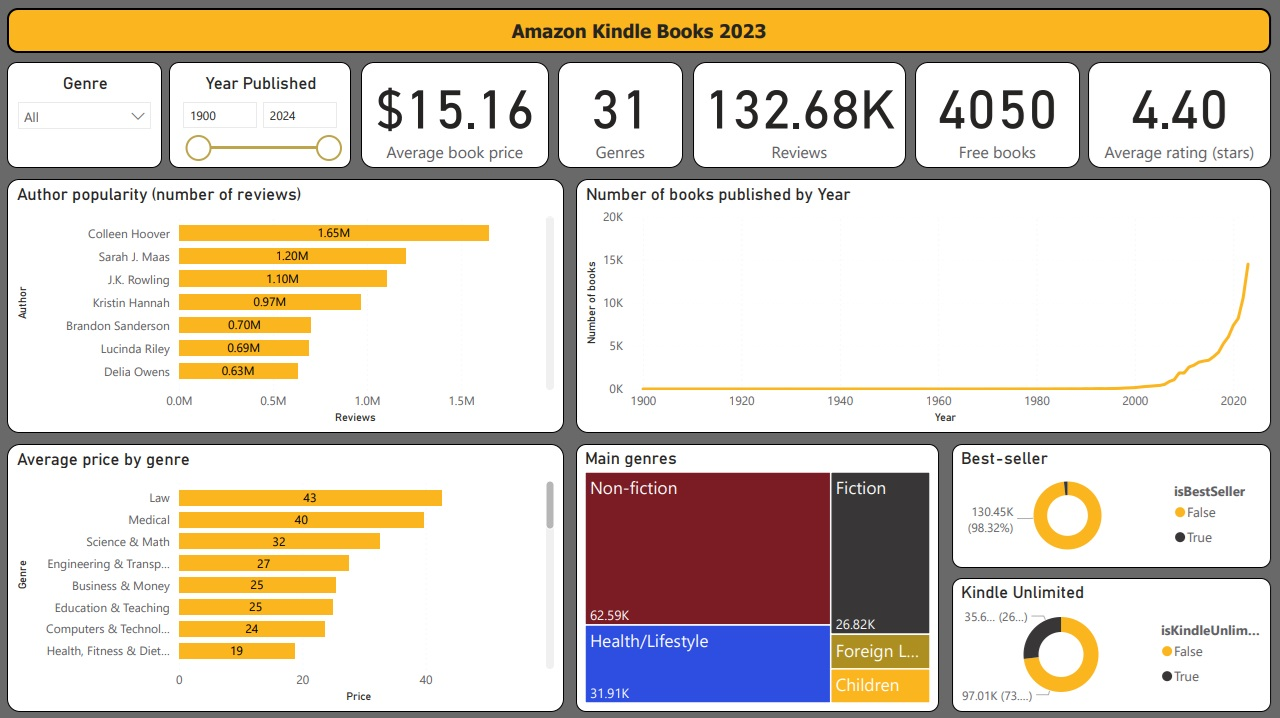

Layout of this report page (visuals, bound fields, positions):
{"tool":"powerbi","page":{"name":"Page 1","canvas":[1280,720],"ordinal":0},"visuals":[{"type":"barChart","title":"Average price by genre","fields":{"Y":["books_2023_cleaned.price"],"Category":["books_2023_cleaned.genre","books_2023_cleaned.author","books_2023_cleaned.title"]},"box":[6.8,444.4,557.7,267.2],"z":0},{"type":"textbox","box":[6.8,7.7,1264.5,45.5],"z":1000},{"type":"card","fields":{"Values":["books_2023_cleaned.price"]},"box":[361.1,62,187.8,106.5],"z":2000},{"type":"card","fields":{"Values":["books_2023_cleaned.reviews_number"]},"box":[693.3,62,213,105.5],"z":3000},{"type":"card","fields":{"Values":["books_2023_cleaned.genre"]},"box":[557.7,62,124.9,106.5],"z":4000},{"type":"slicer","title":"Year Published","fields":{"Values":["books_2023_cleaned.publishedDate.Variation.Date Hierarchy.Year"]},"box":[169.4,62,182,106.5],"z":5000},{"type":"donutChart","title":"Best-seller","fields":{"Category":["books_2023_cleaned.isBestSeller"],"Y":["books_2023_cleaned.isBestSeller"]},"box":[951.8,444.4,319.5,123.9],"z":6000},{"type":"barChart","title":"Author popularity (number of reviews)","fields":{"Category":["books_2023_cleaned.author","books_2023_cleaned.genre","books_2023_cleaned.title"],"Y":["books_2023_cleaned.reviews_number"]},"box":[6.8,179.1,557.7,253.7],"z":7000},{"type":"donutChart","title":"Kindle Unlimited","fields":{"Category":["books_2023_cleaned.isKindleUnlimited"],"Y":["books_2023_cleaned.isKindleUnlimited"]},"box":[951.8,578,319.5,133.6],"z":8000},{"type":"card","title":"Average rating","fields":{"Values":["books_2023_cleaned.rating"]},"box":[1088.3,62,183,105.5],"z":9000},{"type":"card","fields":{"Values":["books_2023_cleaned.price"]},"box":[915,62,164.6,105.5],"z":10000},{"type":"actionButton","box":[0,0,100,40],"z":11000},{"type":"lineChart","title":"Number of books published by Year","fields":{"Category":["books_2023_cleaned.publishedDate.Variation.Date Hierarchy.Year","books_2023_cleaned.publishedDate.Variation.Date Hierarchy.Month","books_2023_cleaned.publishedDate.Variation.Date Hierarchy.Day"],"Y":["books_2023_cleaned.book_ID"]},"box":[576.1,179.1,695.2,253.7],"z":12000},{"type":"slicer","title":"Genre","fields":{"Values":["books_2023_cleaned.genre"]},"box":[6.8,62,154.9,106.5],"z":13000},{"type":"treemap","title":"Main genres","fields":{"Values":["books_2023_cleaned.book_ID"],"Details":["books_2023_cleaned.genre (fiction/non-fiction)"]},"box":[576.1,444.4,363.1,267.2],"z":14000}]}

Visuals, with their boxes in screenshot pixels (x1, y1, x2, y2), scaled from the page's 1280x720 canvas onto the 1280x718 screenshot:
"Average price by genre" barChart: region(7, 443, 564, 710)
textbox: region(7, 8, 1271, 53)
card - books_2023_cleaned.price: region(361, 62, 549, 168)
card - books_2023_cleaned.reviews_number: region(693, 62, 906, 167)
card - books_2023_cleaned.genre: region(558, 62, 683, 168)
"Year Published" slicer: region(169, 62, 351, 168)
"Best-seller" donutChart: region(952, 443, 1271, 567)
"Author popularity (number of reviews)" barChart: region(7, 179, 564, 432)
"Kindle Unlimited" donutChart: region(952, 576, 1271, 710)
"Average rating" card: region(1088, 62, 1271, 167)
card - books_2023_cleaned.price: region(915, 62, 1080, 167)
actionButton: region(0, 0, 100, 40)
"Number of books published by Year" lineChart: region(576, 179, 1271, 432)
"Genre" slicer: region(7, 62, 162, 168)
"Main genres" treemap: region(576, 443, 939, 710)
